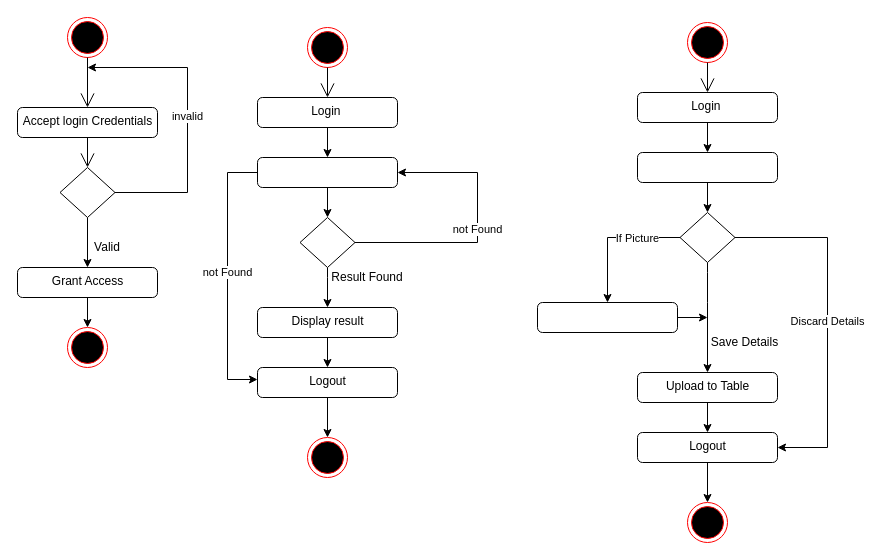
This 882x560 diagram has some shape labels left out. Here are the shapes that lost their labels. From the top down, the box of each, then its label:
(256, 156, 398, 188): Search Result
(636, 152, 778, 182): Register Result
(536, 302, 678, 332): Upload Picture
